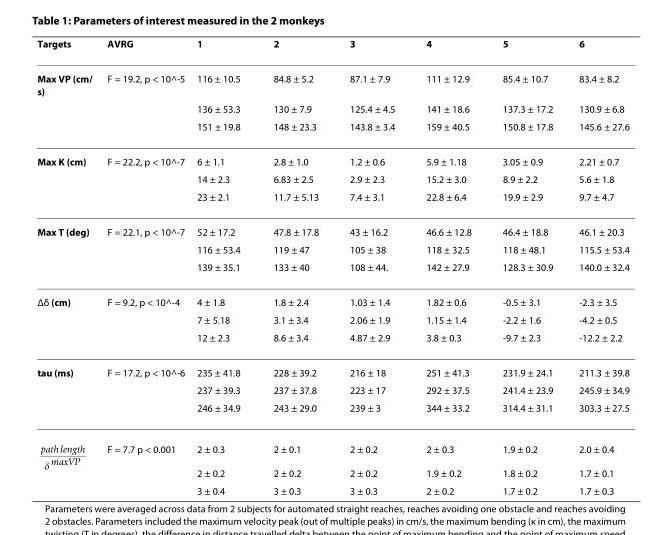table: (36, 36, 628, 496)
table column: (99, 36, 190, 496), (486, 36, 565, 496), (256, 36, 333, 496), (409, 36, 486, 496), (333, 36, 409, 496), (190, 36, 256, 496), (36, 36, 99, 496), (565, 36, 628, 496)
table column header: (36, 36, 628, 60)
table row: (36, 60, 628, 99), (36, 427, 628, 460), (36, 398, 628, 427), (36, 213, 628, 240), (36, 283, 628, 310), (36, 117, 628, 143), (36, 143, 628, 169), (36, 187, 628, 213), (36, 257, 628, 283), (36, 328, 628, 354), (36, 354, 628, 380), (36, 36, 628, 60), (36, 460, 628, 481), (36, 99, 628, 117), (36, 169, 628, 187), (36, 310, 628, 328), (36, 380, 628, 398), (36, 240, 628, 257), (36, 481, 628, 496)
table spanning cell: (36, 354, 99, 496), (36, 60, 99, 143), (36, 283, 99, 354), (36, 143, 99, 213), (36, 213, 99, 283)
